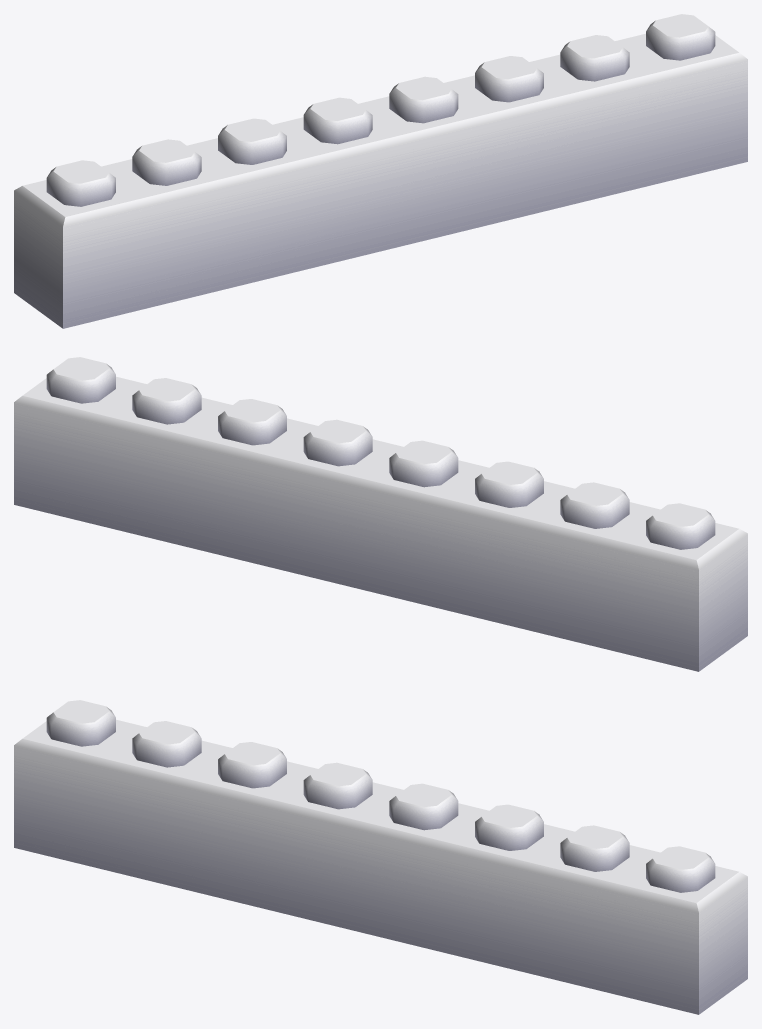
Rendered from bevel-hq-brick-1x8.glb.
3 views of the same model, one above another, from view 1: azimuth 30°, elevation 25°; view 2: azimuth 150°, elevation 25°; view 3: azimuth 330°, elevation 25° (orthographic).
Visible parts, largest first — view 1: bevel-hq-brick-1x8; view 2: bevel-hq-brick-1x8; view 3: bevel-hq-brick-1x8.
Boxes of the visible parts, x1,y1,x2,y2 form: bevel-hq-brick-1x8: [14, 14, 747, 328]; bevel-hq-brick-1x8: [14, 357, 747, 671]; bevel-hq-brick-1x8: [14, 700, 747, 1014].
Bounding box in the file's own units: 3.18 × 0.57 × 0.395.
Materials: 1 (1 with a texture image).
